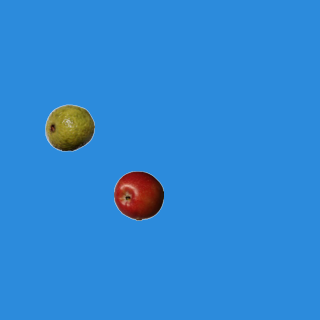Apple Braeburn: (113, 170, 163, 220)
Guava: (44, 102, 94, 152)
